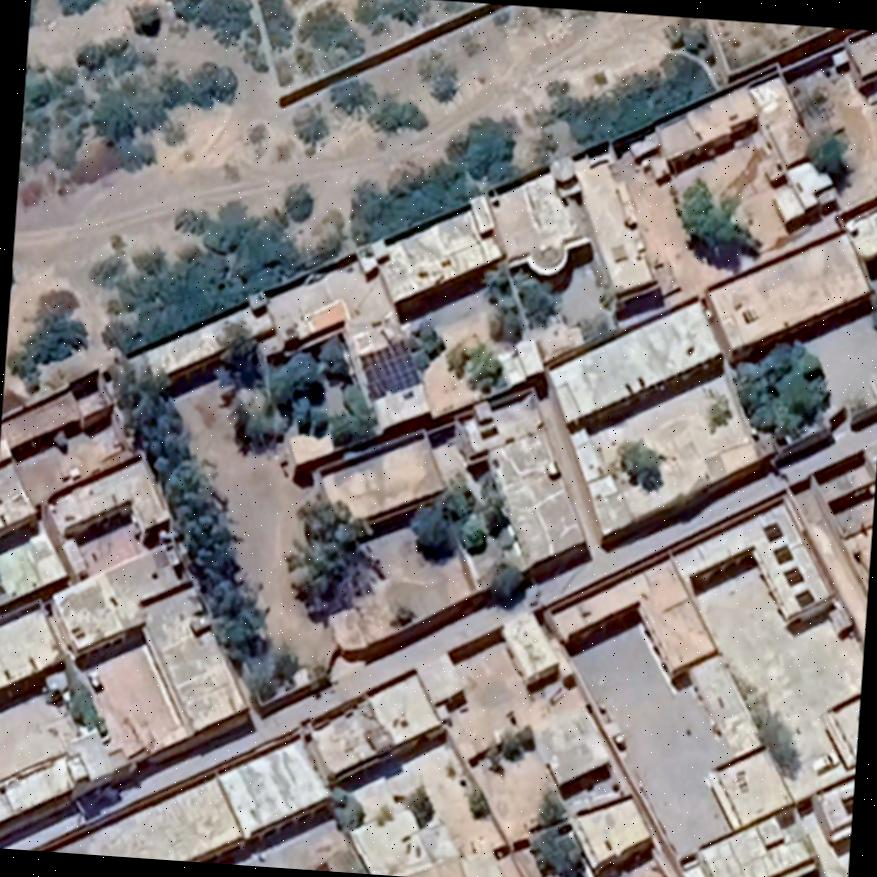Solarpanel: (352, 337, 427, 404), (761, 516, 787, 545), (772, 540, 796, 568), (793, 586, 819, 610), (782, 564, 806, 587)
